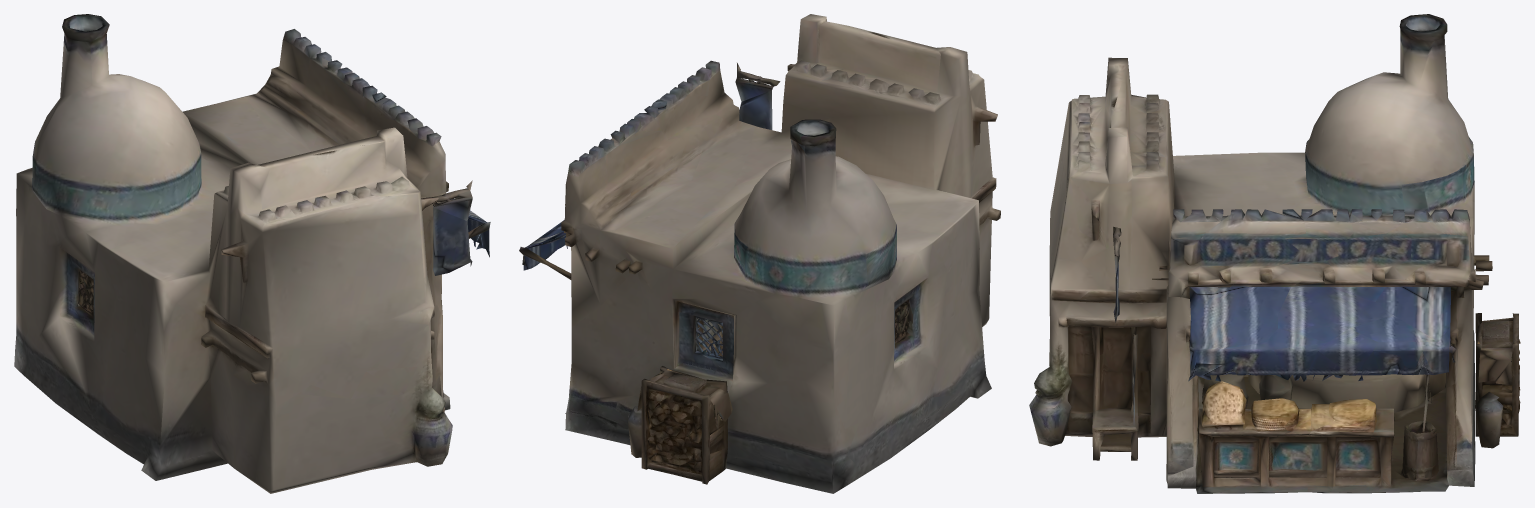
Rendered from bakery.glb.
3 renders of one model, left to right at view 1: azimuth 30°, elevation 25°; view 2: azimuth 150°, elevation 25°; view 3: azimuth 270°, elevation 25°, orthographic. The views are drawn at different scales.
Parts seen in each view (by area): view 1: tripo_node_e4c4c983-c7df-458a-846d-fdc11c4059a0; view 2: tripo_node_e4c4c983-c7df-458a-846d-fdc11c4059a0; view 3: tripo_node_e4c4c983-c7df-458a-846d-fdc11c4059a0.
Boxes of the visible parts, x1=… form: tripo_node_e4c4c983-c7df-458a-846d-fdc11c4059a0: x1=14, y1=14, x2=490, y2=493; tripo_node_e4c4c983-c7df-458a-846d-fdc11c4059a0: x1=519, y1=14, x2=1000, y2=493; tripo_node_e4c4c983-c7df-458a-846d-fdc11c4059a0: x1=1029, y1=14, x2=1520, y2=493.
Bounding box in the file's own units: 0.7993 × 0.7702 × 0.9798.
Materials: 1 (1 with a texture image).
